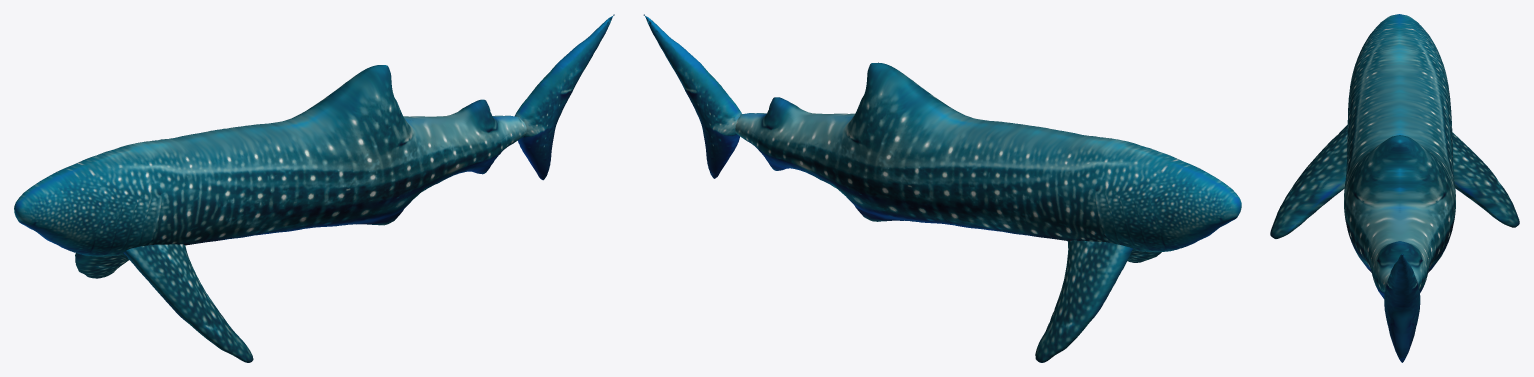
Rendered from whale-shark.glb.
The picture shows the model from 3 angles, left to right: view 1: azimuth 30°, elevation 25°; view 2: azimuth 150°, elevation 25°; view 3: azimuth 270°, elevation 25°; orthographic projection. The views are drawn at different scales.
Visible parts, largest first — view 1: mm_frame (35); view 2: mm_frame (35); view 3: mm_frame (35).
Part boxes in pixels (x1=…): mm_frame (35): x1=14, y1=14, x2=614, y2=362; mm_frame (35): x1=643, y1=14, x2=1241, y2=362; mm_frame (35): x1=1270, y1=14, x2=1519, y2=362.
Bounding box in the file's own units: 9.34 × 3 × 3.51.
1 material, 1 textured.
